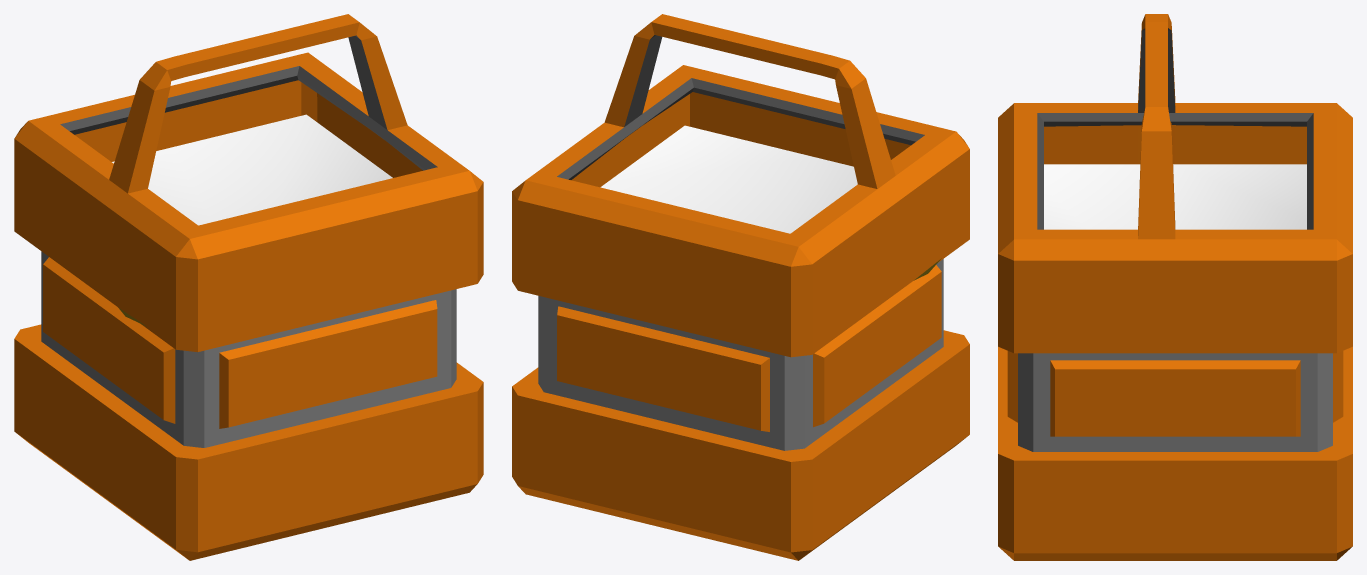
Rendered from cesto.fbx.
3 views of the same model, side by side, from view 1: azimuth 30°, elevation 25°; view 2: azimuth 150°, elevation 25°; view 3: azimuth 270°, elevation 25° (orthographic). The views are drawn at different scales.
Parts seen in each view (by area): view 1: ToolCrate00.001, Plane; view 2: ToolCrate00.001, Plane; view 3: ToolCrate00.001, Plane.
Part boxes in pixels (left/top/right/bottom): ToolCrate00.001: left=14, top=14, right=483, bottom=560; Plane: left=112, top=114, right=392, bottom=225; ToolCrate00.001: left=512, top=14, right=969, bottom=560; Plane: left=600, top=125, right=857, bottom=233; ToolCrate00.001: left=998, top=14, right=1352, bottom=560; Plane: left=1044, top=164, right=1306, bottom=229.
Bounding box in the file's own units: 40.5 × 53.8 × 40.
